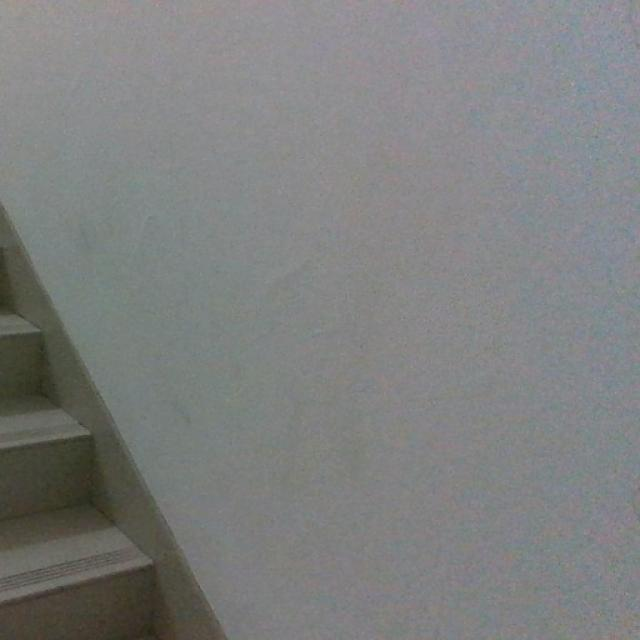stair: (0, 267, 132, 621)
